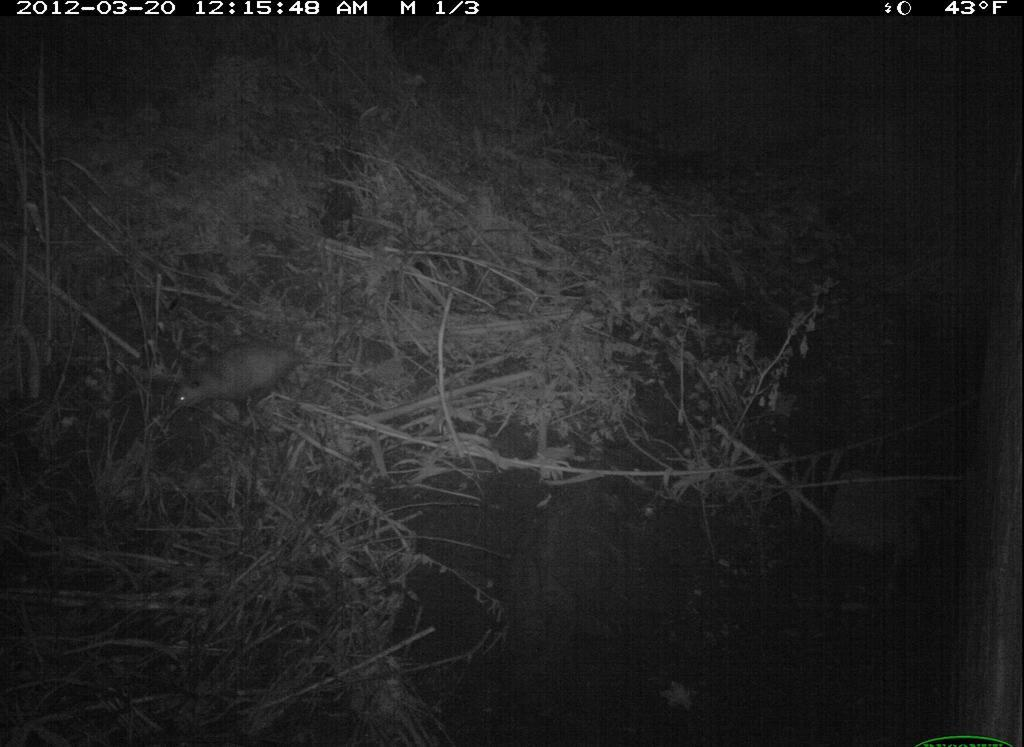opossum: (171, 337, 331, 432)
